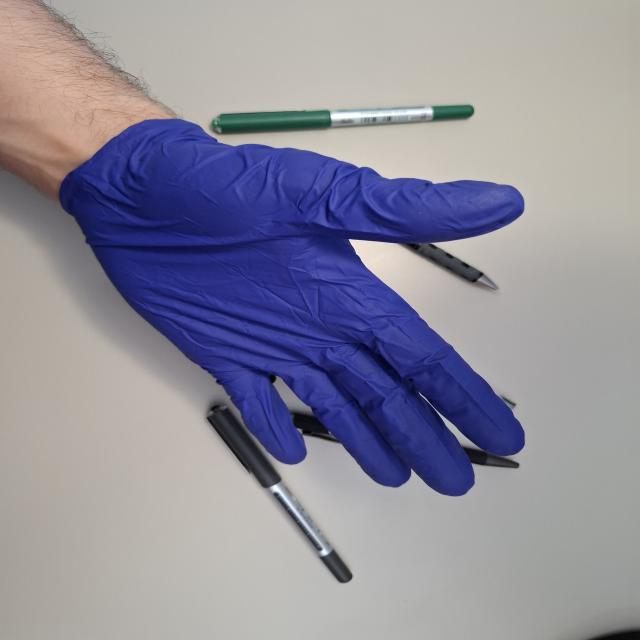glove_on: (53, 115, 533, 501)
